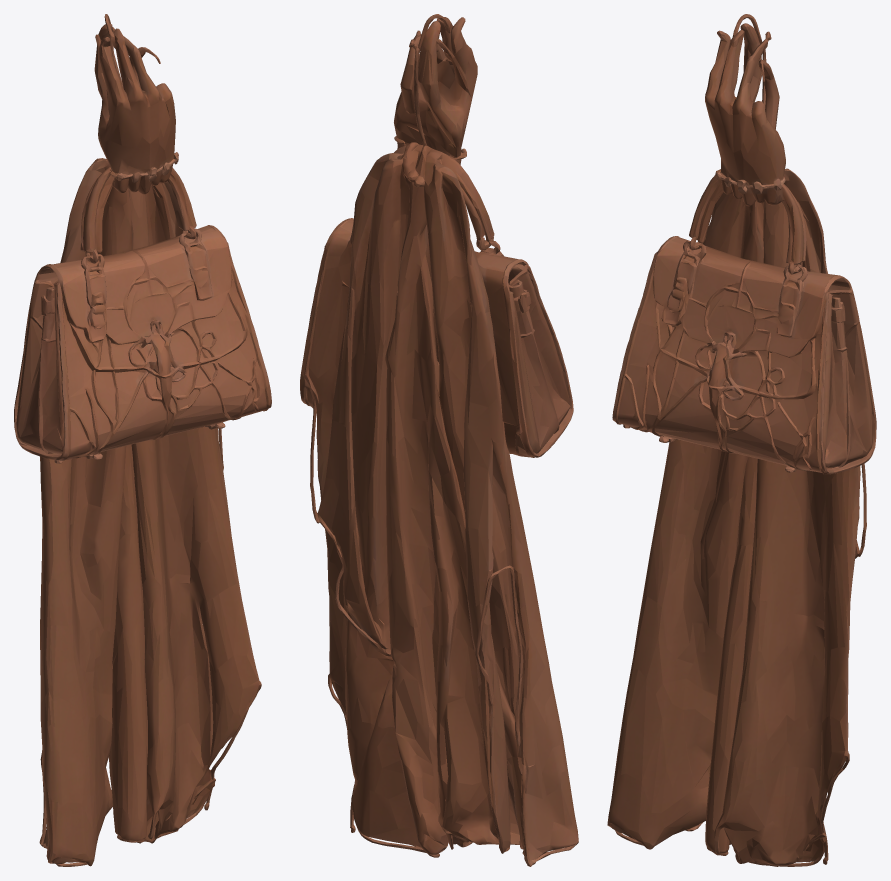
The picture shows the model from 3 angles, left to right: view 1: azimuth 30°, elevation 25°; view 2: azimuth 150°, elevation 25°; view 3: azimuth 330°, elevation 25°; orthographic projection. The views are drawn at different scales.
Visible parts, largest first — view 1: Mesh_0; view 2: Mesh_0; view 3: Mesh_0.
Part boxes in pixels (<box>): Mesh_0: <box>14,14,271,866</box>; Mesh_0: <box>300,14,578,866</box>; Mesh_0: <box>607,14,876,866</box>.
Size of the model in its own units: 0.5488 by 1.9 by 0.2444.
1 material, 1 textured.
